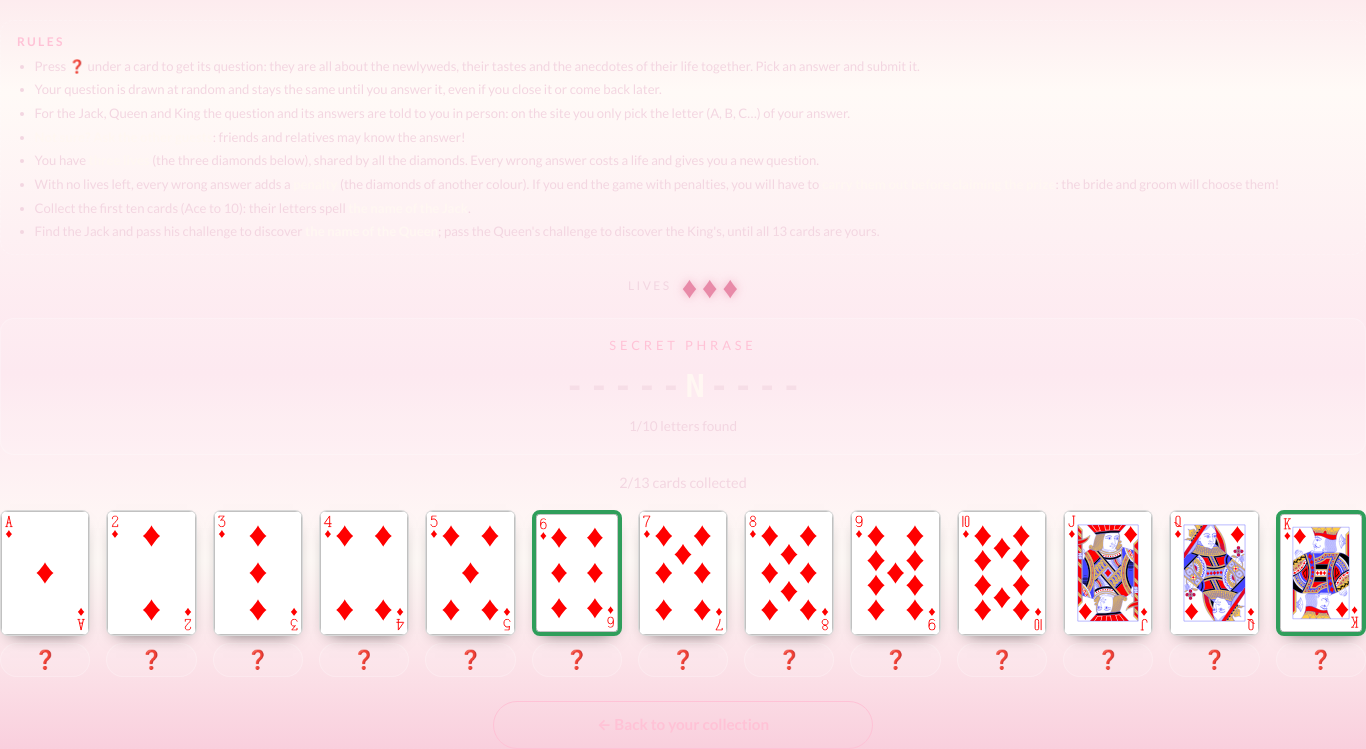
Test: private area › card game › diamonds quiz › costs a life and brings a new question on a wrong answer, collects the card on the right one
(page scrolled)
Step 1. Click the button named "Quiz for the 5 of diamonds" → (470, 660), box [425,643,516,677]
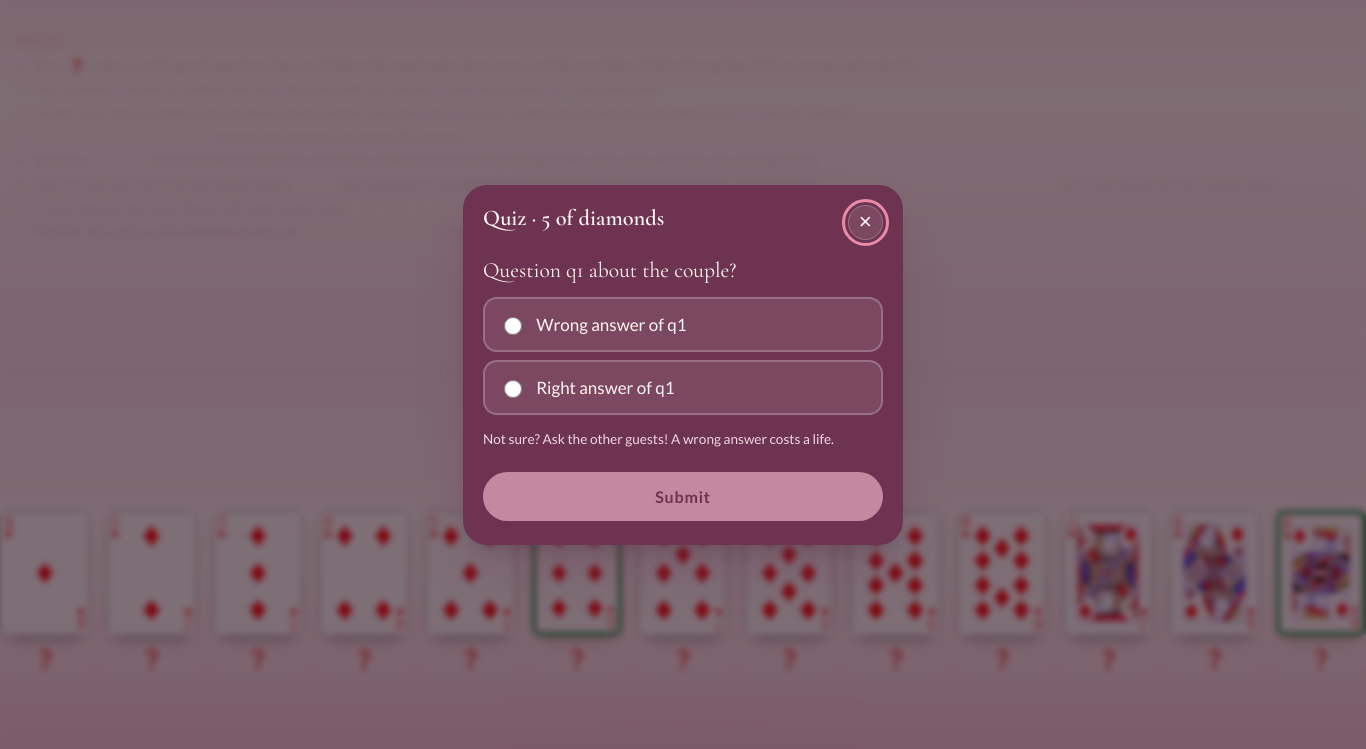
Check: the element "Question q1 about the couple?" is shown, box [483,256,883,415]
Check: the button "Submit" is disabled, box [483,472,883,521]
Step 2. Click the radio button labelled "Wrong answer of q1" → (513, 326), box [504,317,522,335]
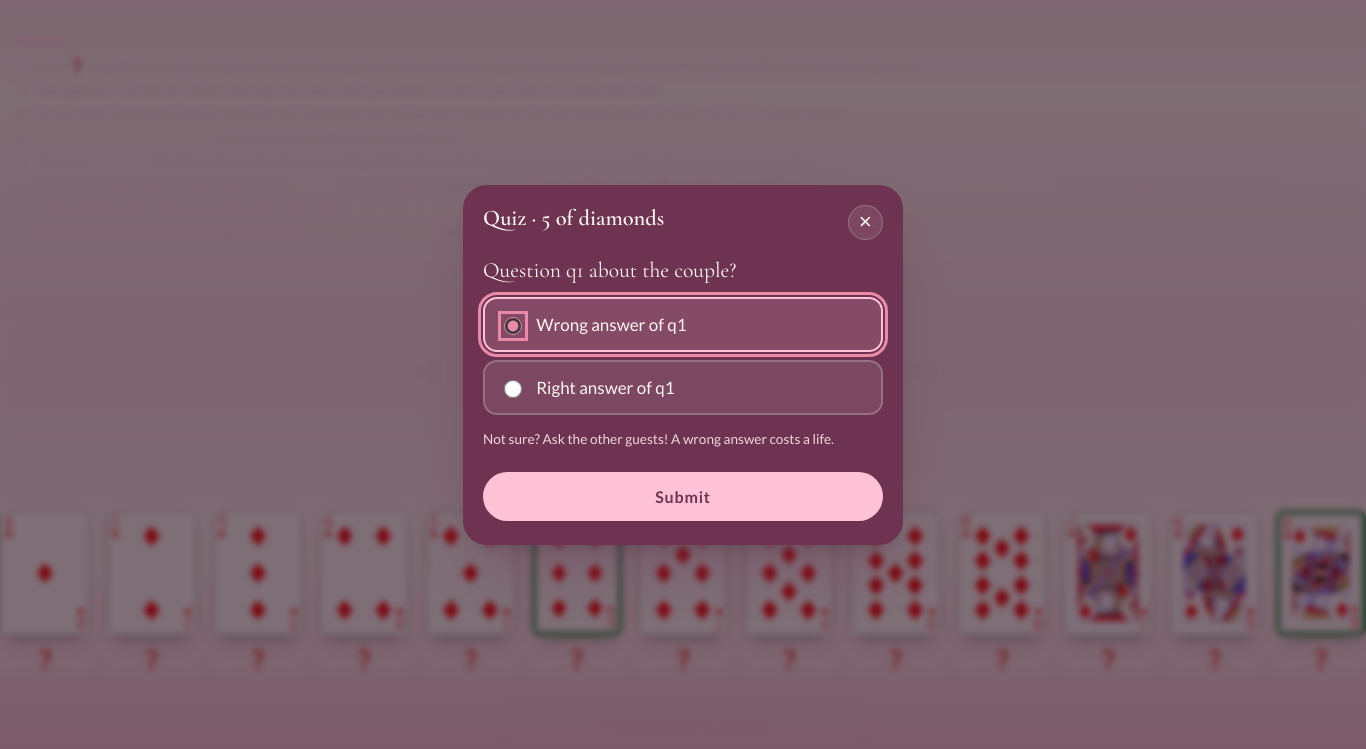
Step 3. Click the button "Submit" → (683, 497), box [483,472,883,521]
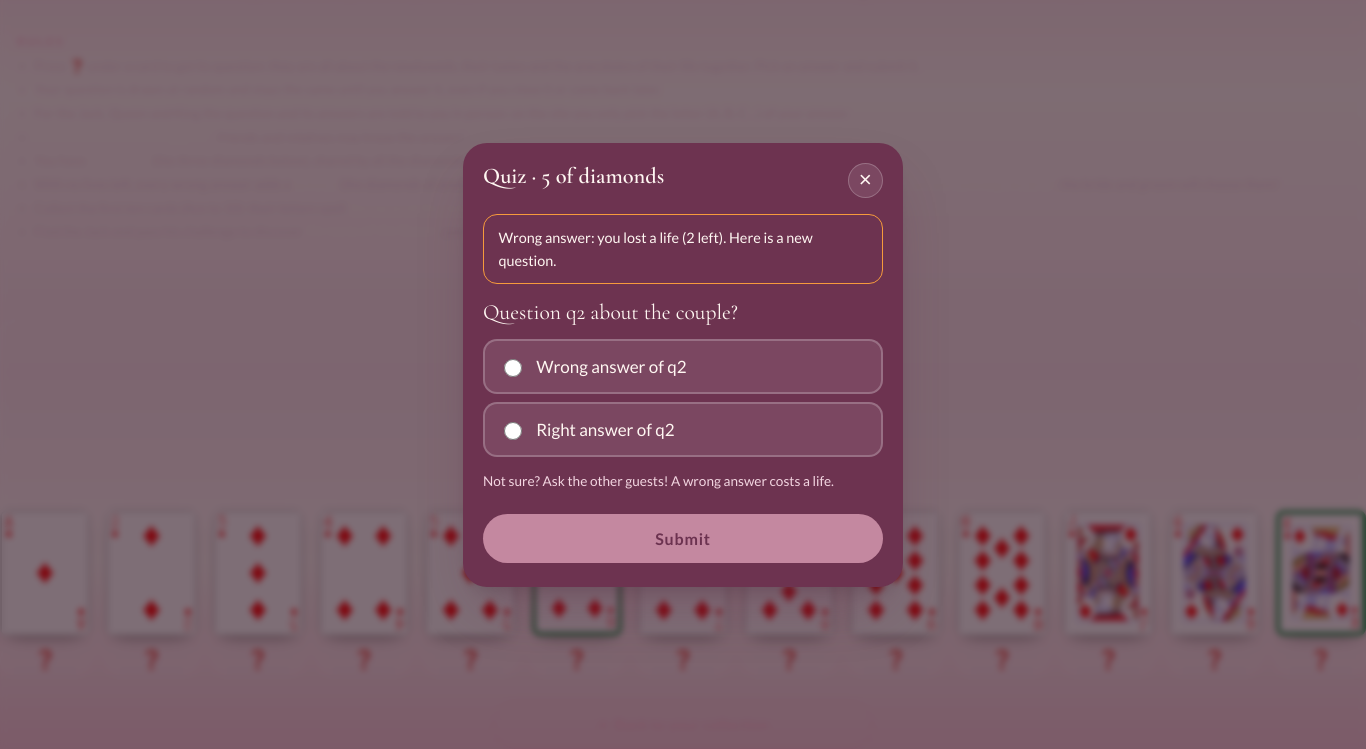
Check: the message shows "you lost a life (2 left)", box [498,229,813,269]
Check: the element "Question q2 about the couple?" is shown, box [483,298,883,457]
Step 4. Click the radio button labelled "Right answer of q2" → (513, 431), box [504,422,522,440]
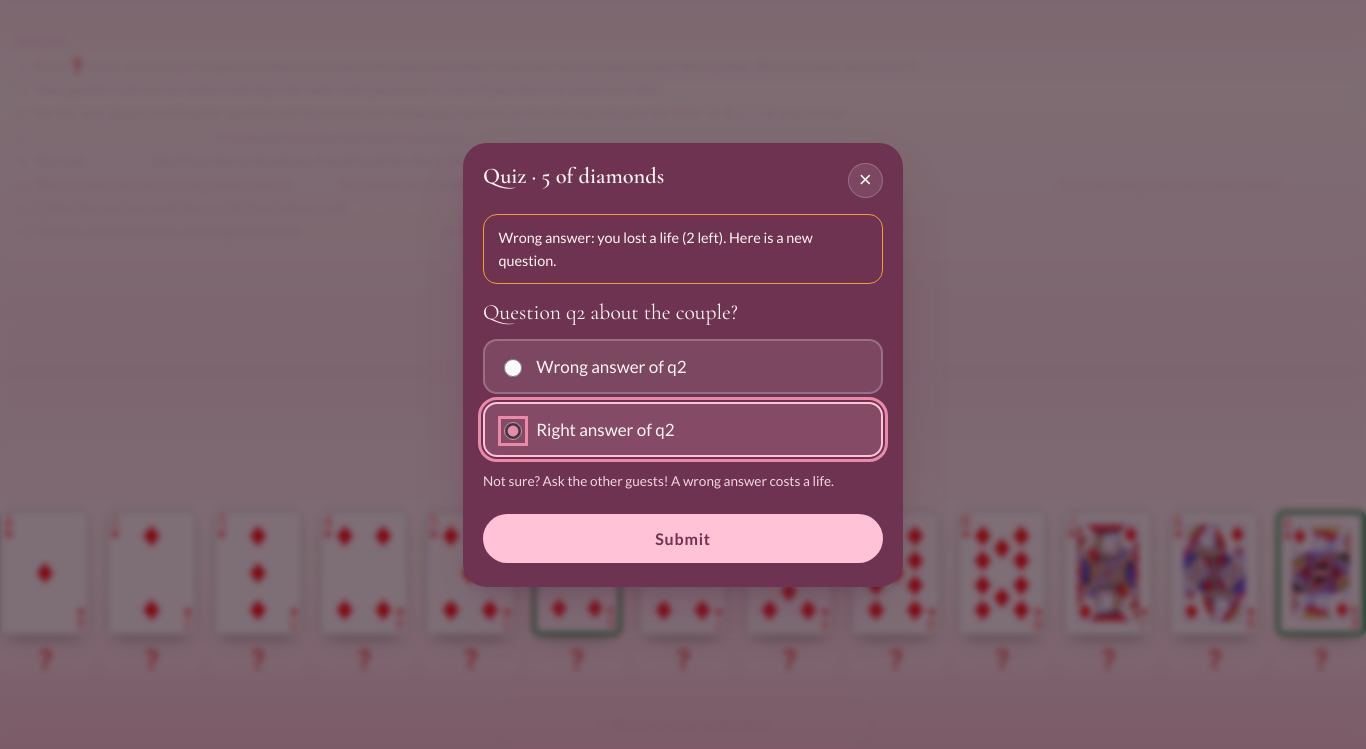
Step 5. Click the button "Submit" → (683, 539), box [483,514,883,563]
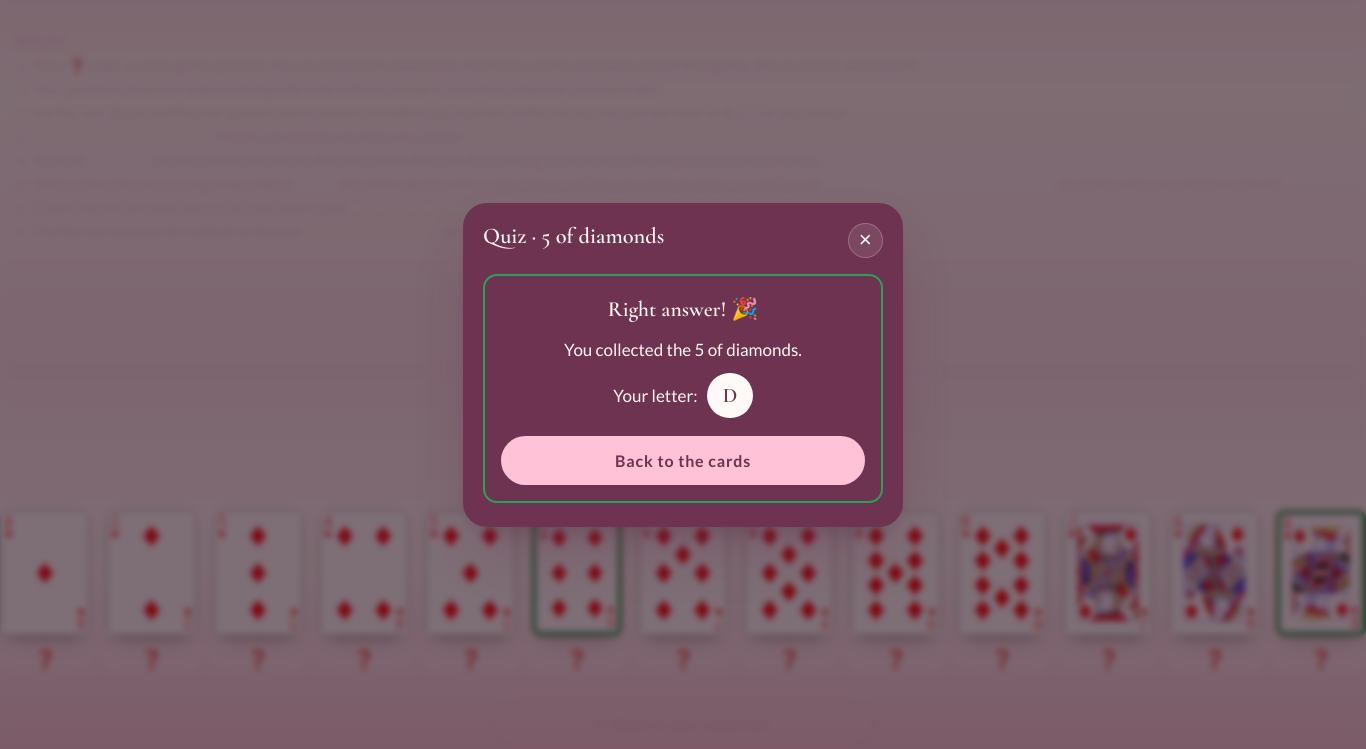
Check: the text "Right answer! 🎉" is shown, box [608,296,758,322]
Check: the text "D" is shown, box [707,373,753,418]
